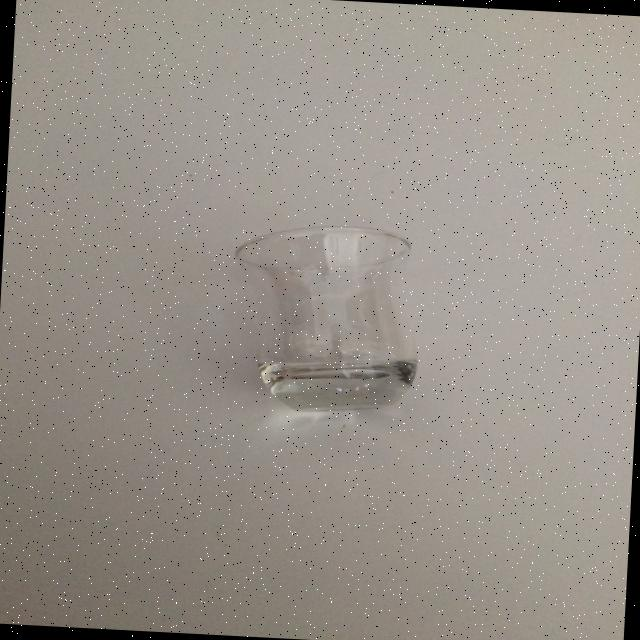glass: (225, 220, 426, 418)
